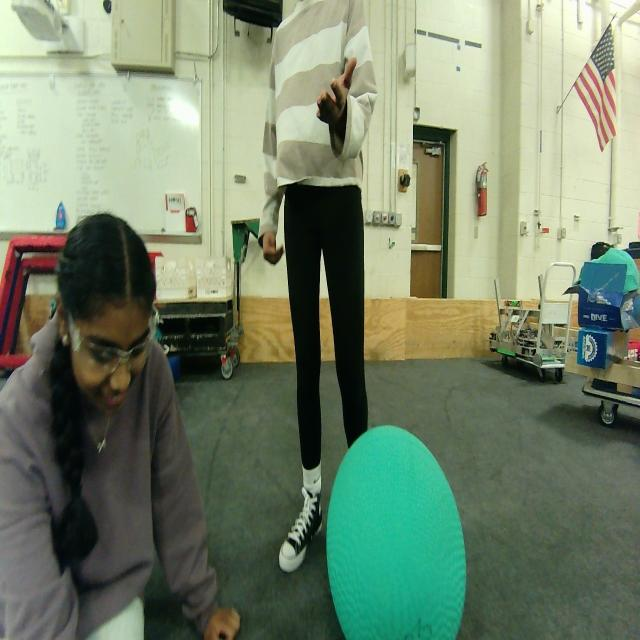algae: (324, 421, 468, 640)
